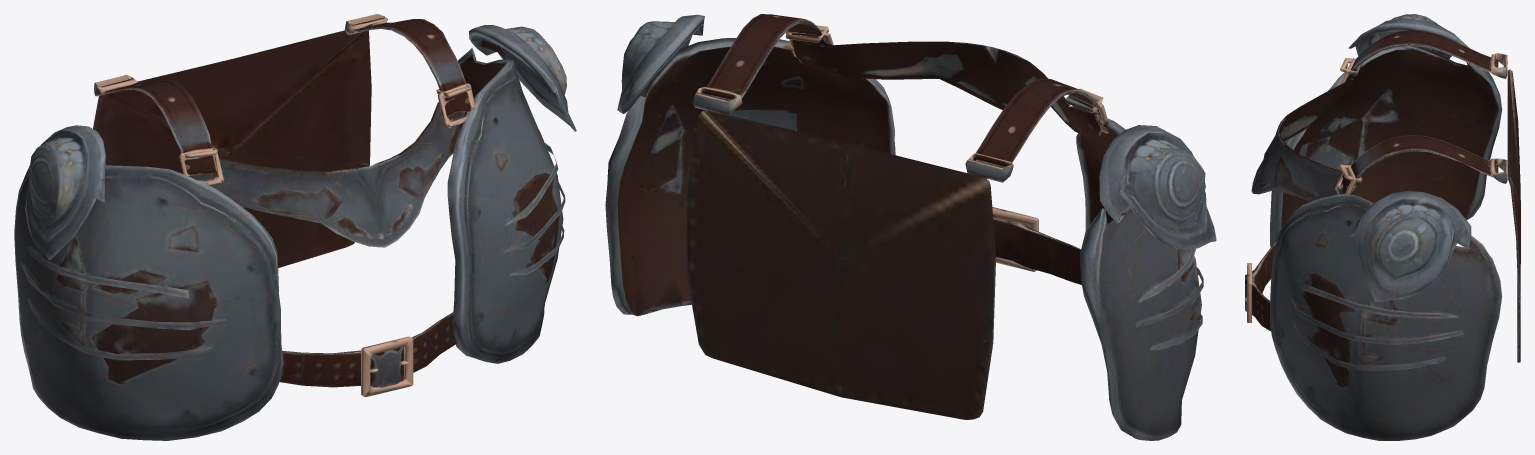
Rendered from plate_legs.glb.
3 views of the same model, side by side, from view 1: azimuth 30°, elevation 25°; view 2: azimuth 150°, elevation 25°; view 3: azimuth 270°, elevation 25° (orthographic). The views are drawn at different scales.
Bounding box in the file's own units: 0.9507 × 0.5186 × 0.5034.
Materials: 1 (1 with a texture image).
